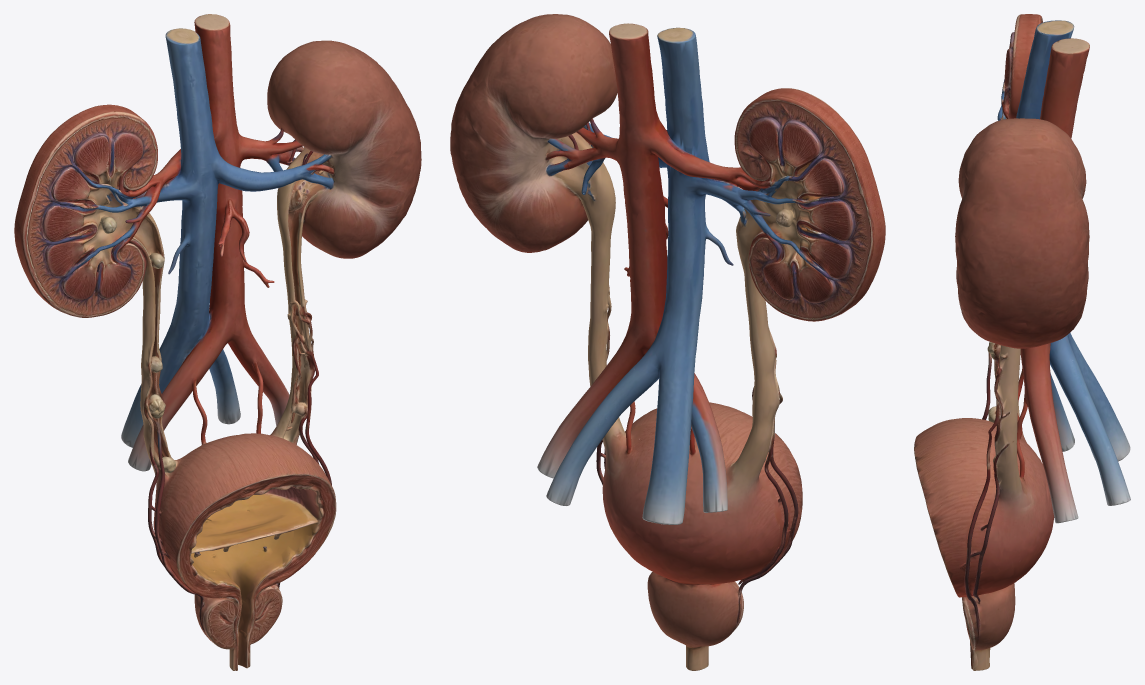
Rendered from kidney.glb.
The picture shows the model from 3 angles, left to right: view 1: azimuth 30°, elevation 25°; view 2: azimuth 150°, elevation 25°; view 3: azimuth 270°, elevation 25°; orthographic projection. The views are drawn at different scales.
Parts seen in each view (by area): view 1: tripo_node_cc03927e-3790-47b4-8678-a8a2a7acf7cf; view 2: tripo_node_cc03927e-3790-47b4-8678-a8a2a7acf7cf; view 3: tripo_node_cc03927e-3790-47b4-8678-a8a2a7acf7cf.
Part boxes in pixels (left/top/right/bottom): tripo_node_cc03927e-3790-47b4-8678-a8a2a7acf7cf: left=14, top=14, right=421, bottom=670; tripo_node_cc03927e-3790-47b4-8678-a8a2a7acf7cf: left=450, top=14, right=885, bottom=670; tripo_node_cc03927e-3790-47b4-8678-a8a2a7acf7cf: left=914, top=14, right=1130, bottom=670.
Bounding box in the file's own units: 0.6593 × 1 × 0.3114.
Materials: 1 (1 with a texture image).
